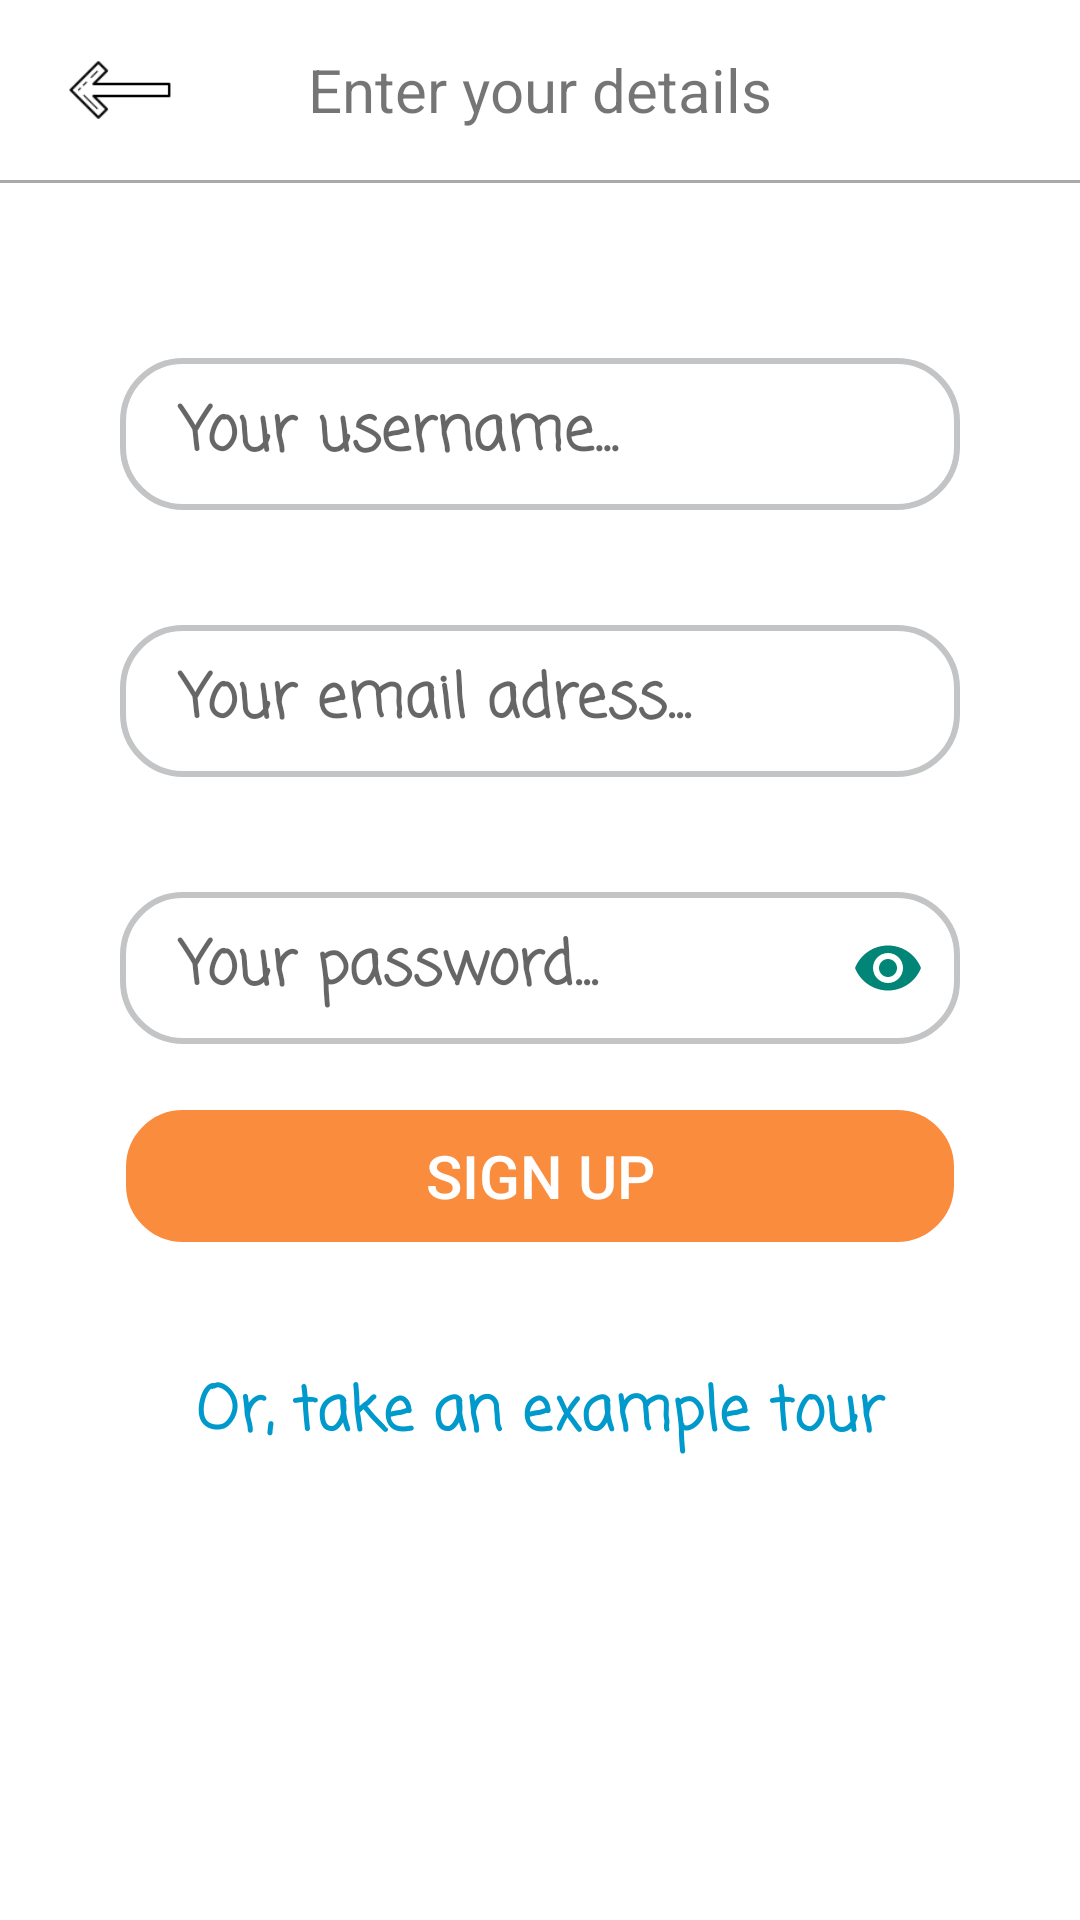

Icon click points for this 1080*1920 phone screenshot, format (x=x, y=y):
leftarrow: (x=120, y=90)
